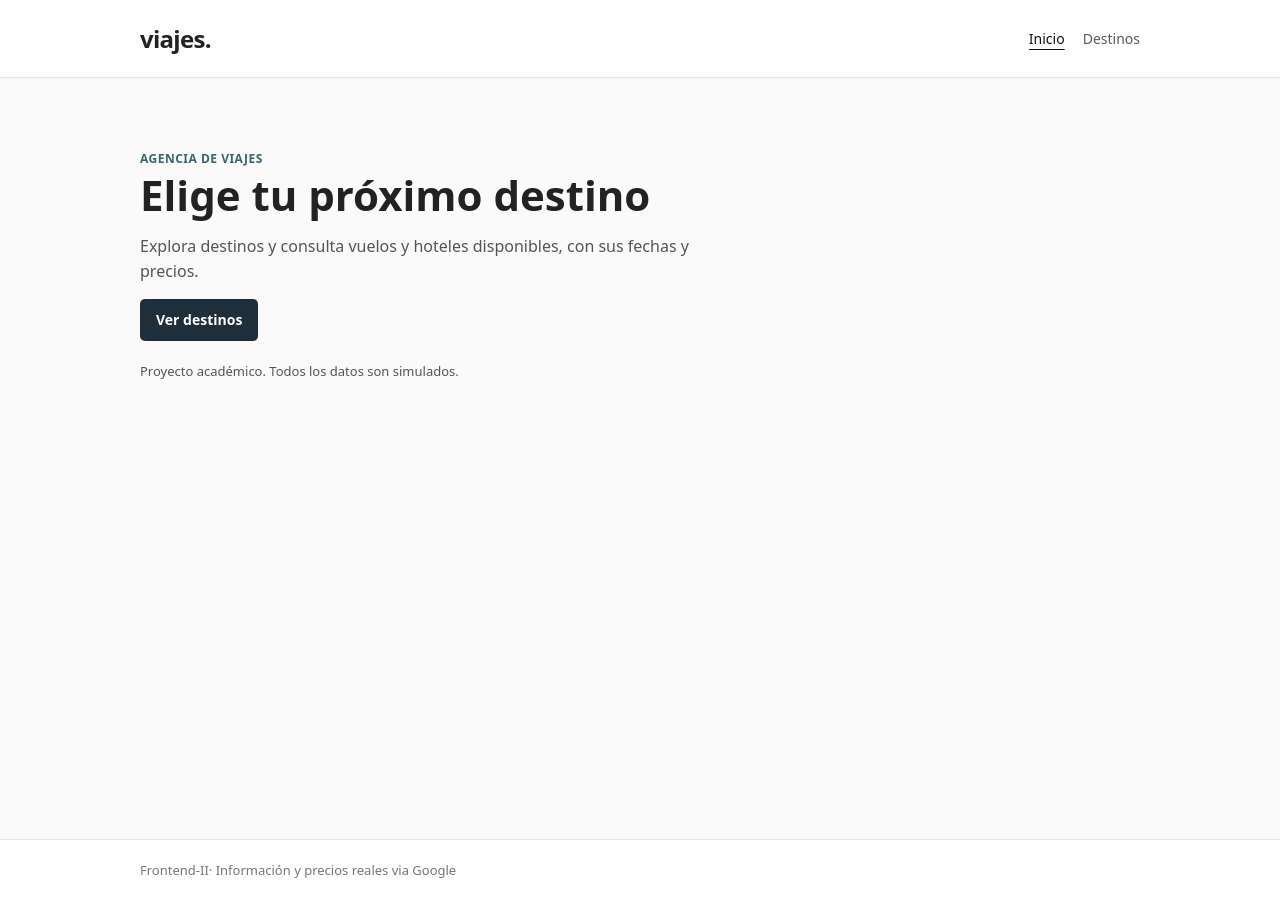
Test: permite seleccionar un destino y consultar sus vuelos y hoteles
Click the link "Ver destinos": [199, 320] box [140, 299, 258, 341]
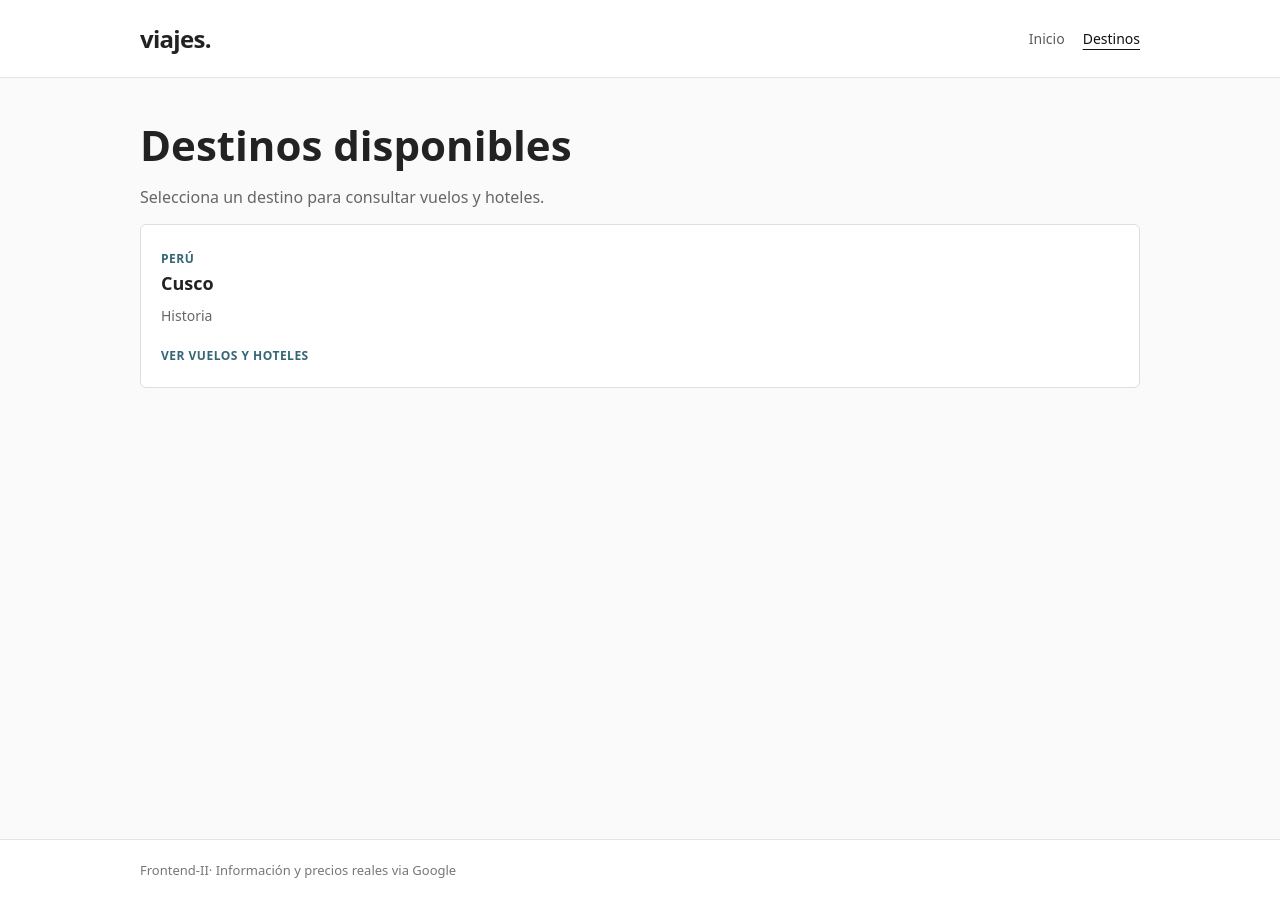
Click the link "Perú Cusco Historia Ver vuelos y hoteles": [640, 306] box [140, 224, 1140, 388]
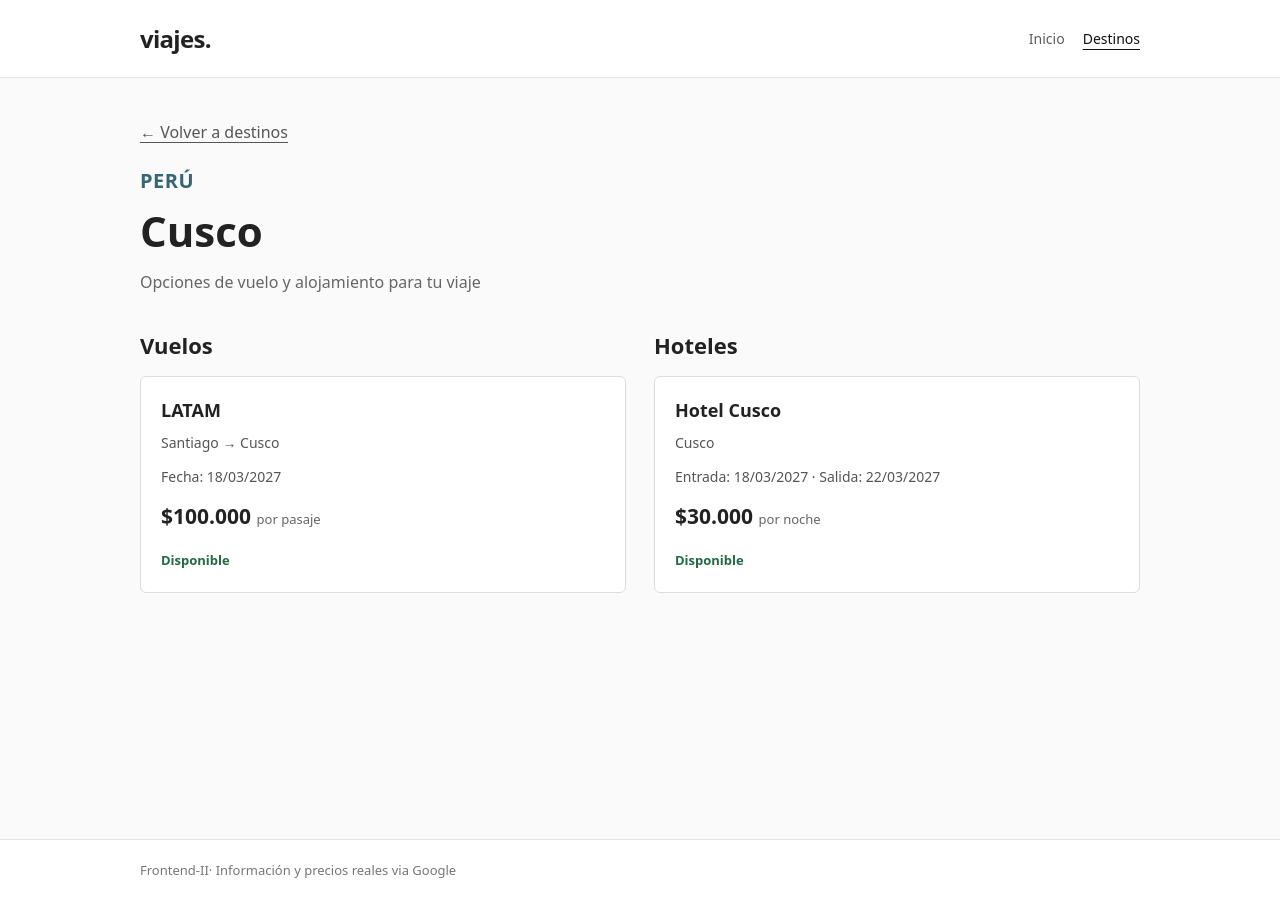
Expected: the heading "LATAM" is shown, [161, 398, 221, 422]
Expected: the heading "Hotel Cusco" is shown, [675, 398, 781, 422]
